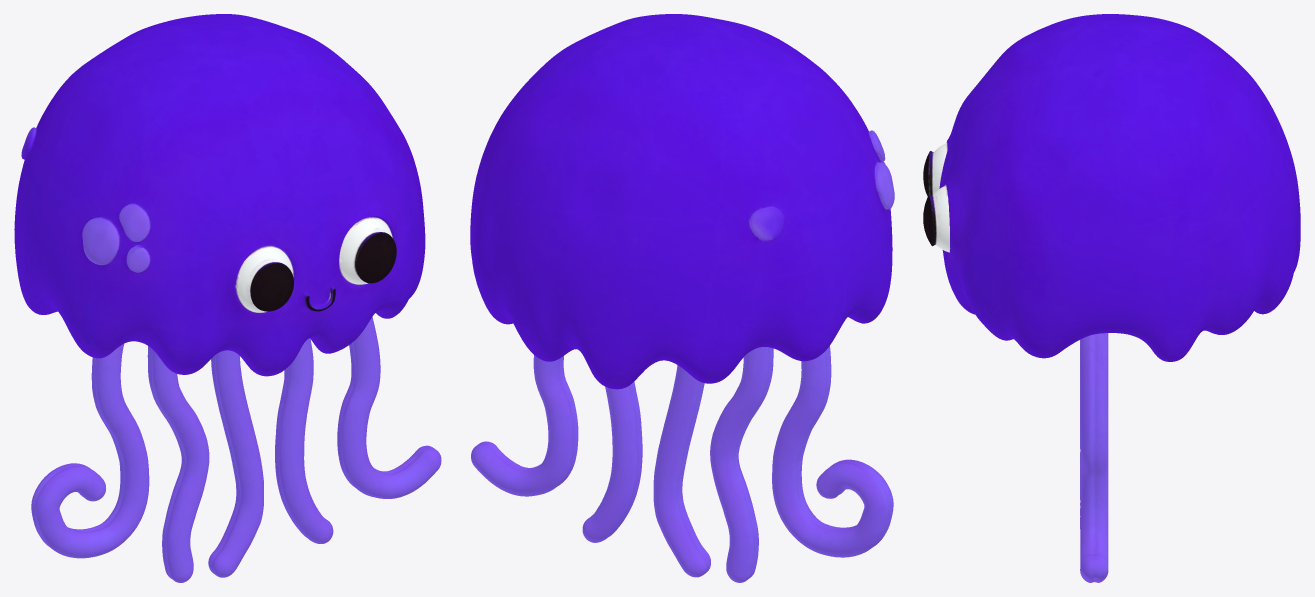
Rendered from Medusa.glb.
The picture shows the model from 3 angles, left to right: view 1: azimuth 30°, elevation 25°; view 2: azimuth 150°, elevation 25°; view 3: azimuth 270°, elevation 25°; orthographic projection. The views are drawn at different scales.
Bounding box in the file's own units: 1.52 × 1.9 × 1.3.
Materials: 1 (1 with a texture image).
